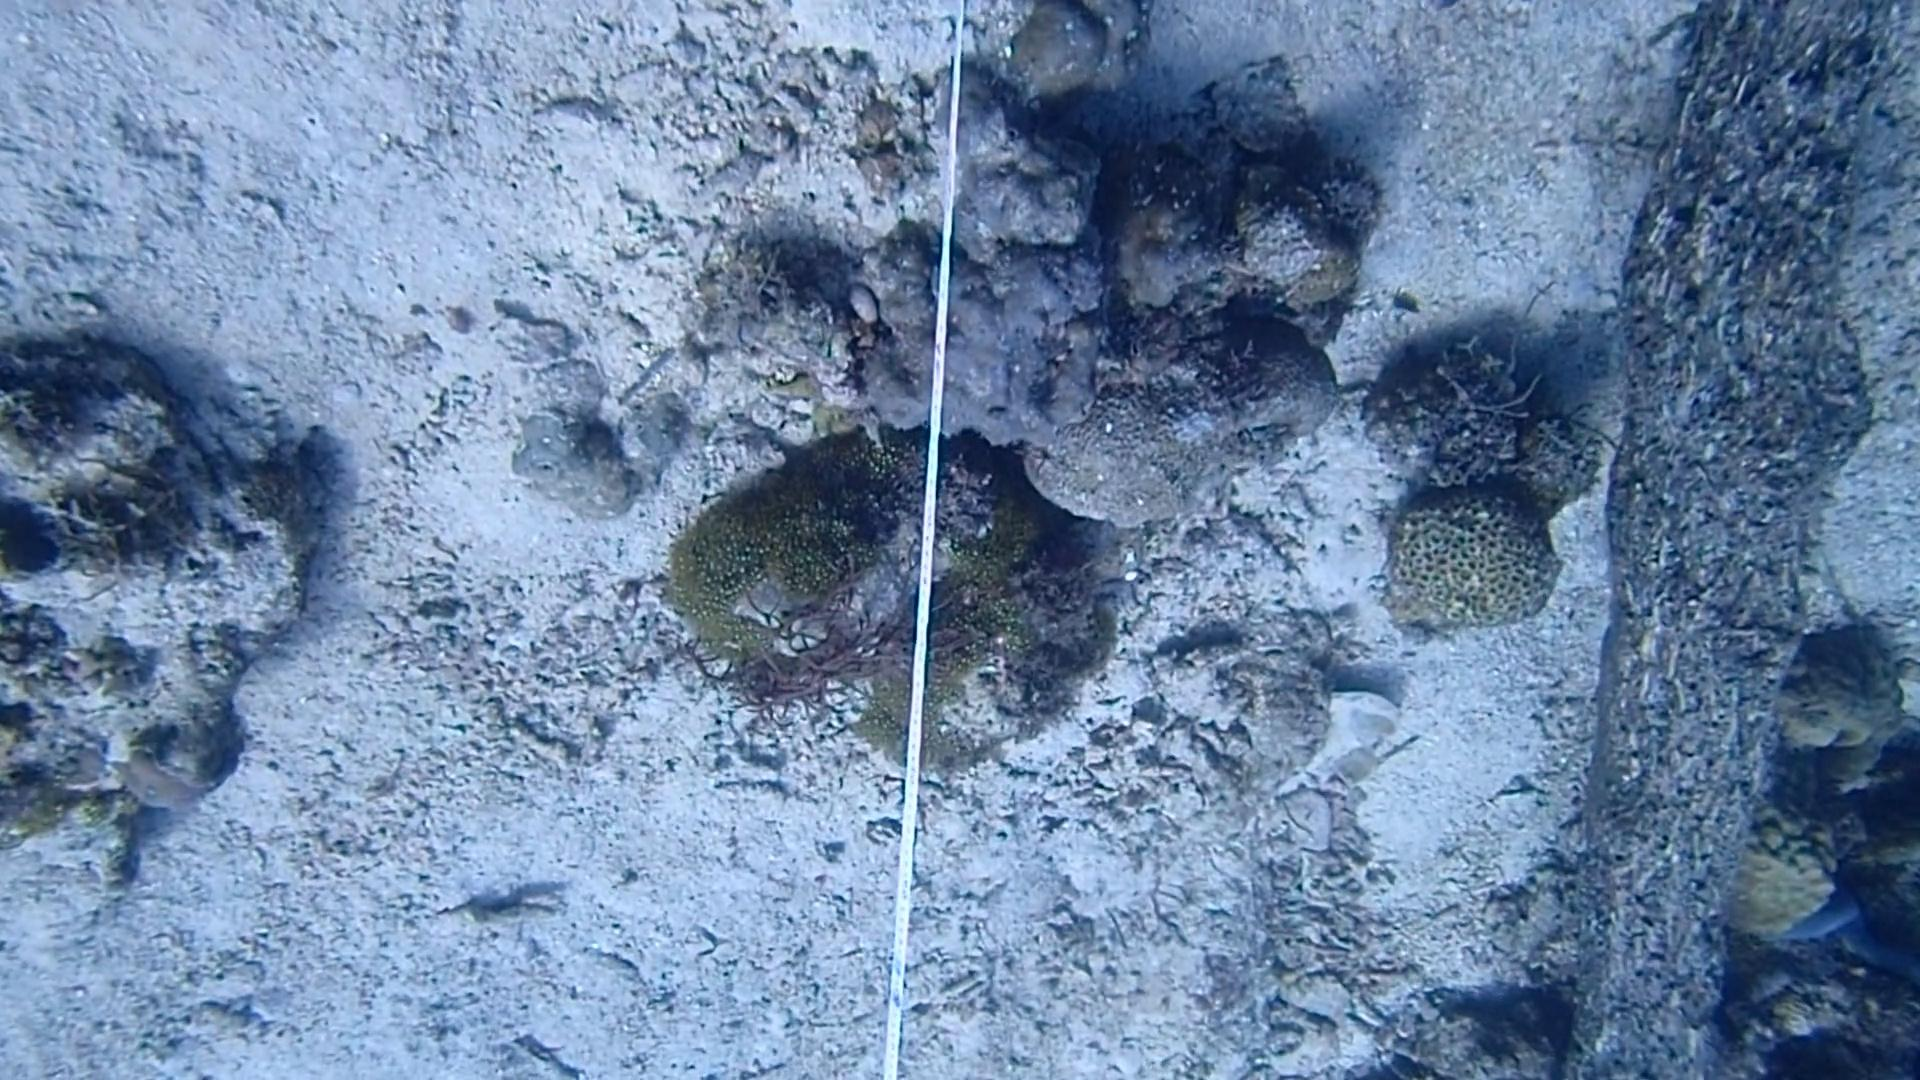UI: (1383, 276, 1425, 324)
